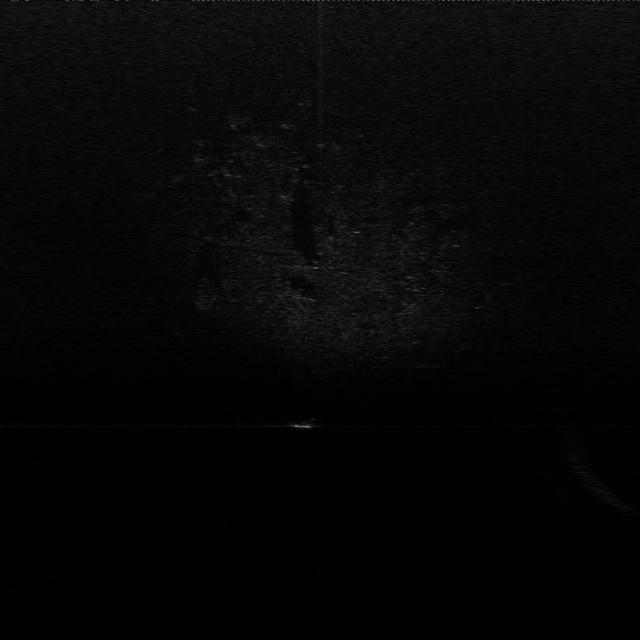square cage: (280, 411, 326, 434)
